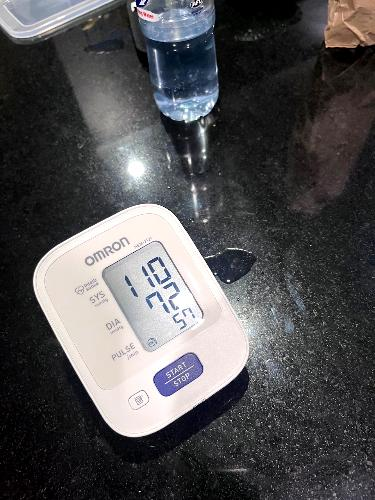bpm: (98, 236, 208, 356)
